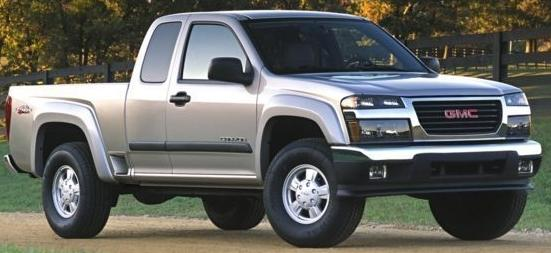front_view: (342, 92, 539, 204)
headlight: (331, 90, 429, 158)
side_glass: (120, 16, 265, 95)
